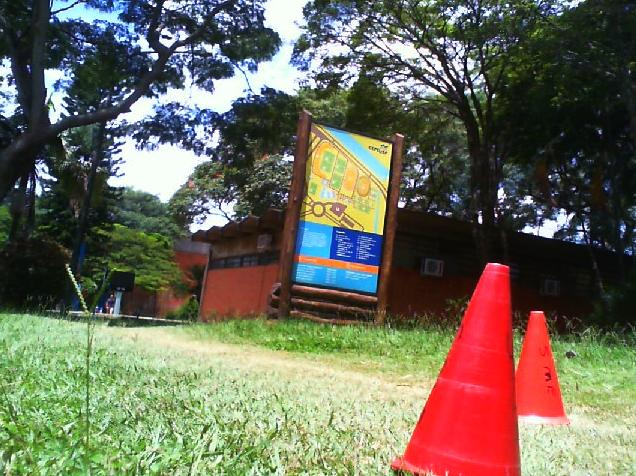0 cone: (391, 263, 522, 476), (516, 311, 572, 425)
